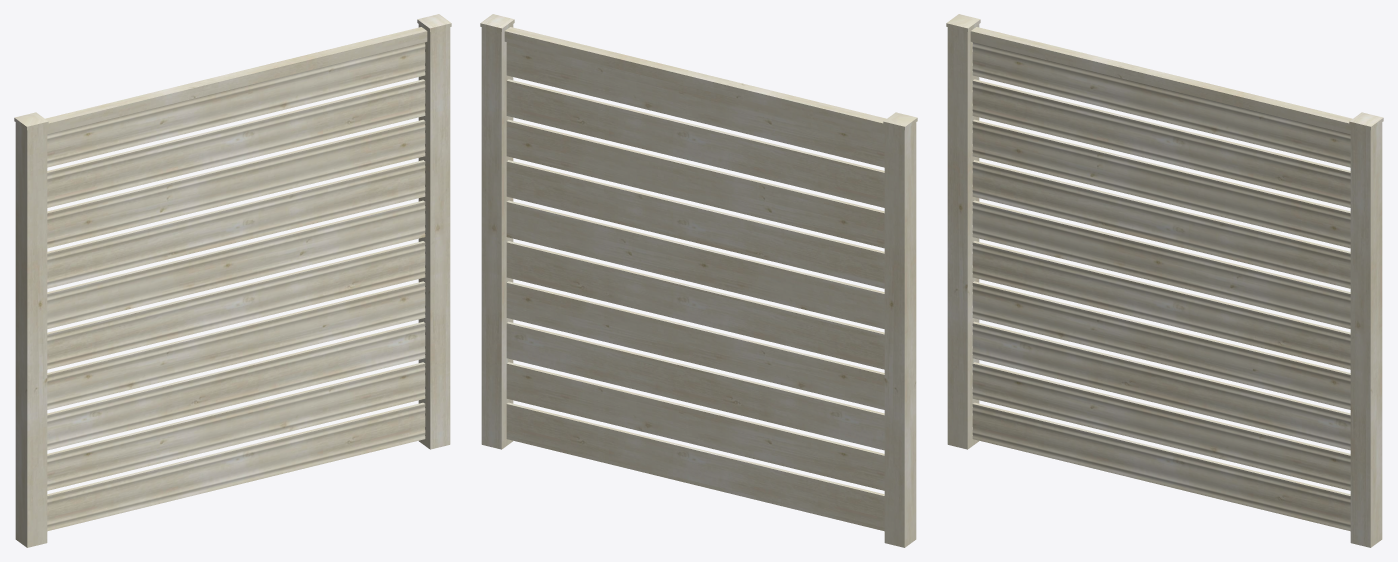
Rendered from huubistraight_h1200_whitepine.fbx.
3 views of the same model, side by side, from view 1: azimuth 30°, elevation 25°; view 2: azimuth 150°, elevation 25°; view 3: azimuth 330°, elevation 25° (orthographic).
Parts seen in each view (by area): view 1: huubistraight_h1200_darkpine.003; view 2: huubistraight_h1200_darkpine.003; view 3: huubistraight_h1200_darkpine.003.
Part boxes in pixels (bbox=[...]): huubistraight_h1200_darkpine.003: bbox=[14, 14, 451, 547]; huubistraight_h1200_darkpine.003: bbox=[480, 14, 917, 547]; huubistraight_h1200_darkpine.003: bbox=[946, 14, 1383, 547].
Size of the model in its own units: 126 by 120 by 6.5.
1 material, 1 textured.
